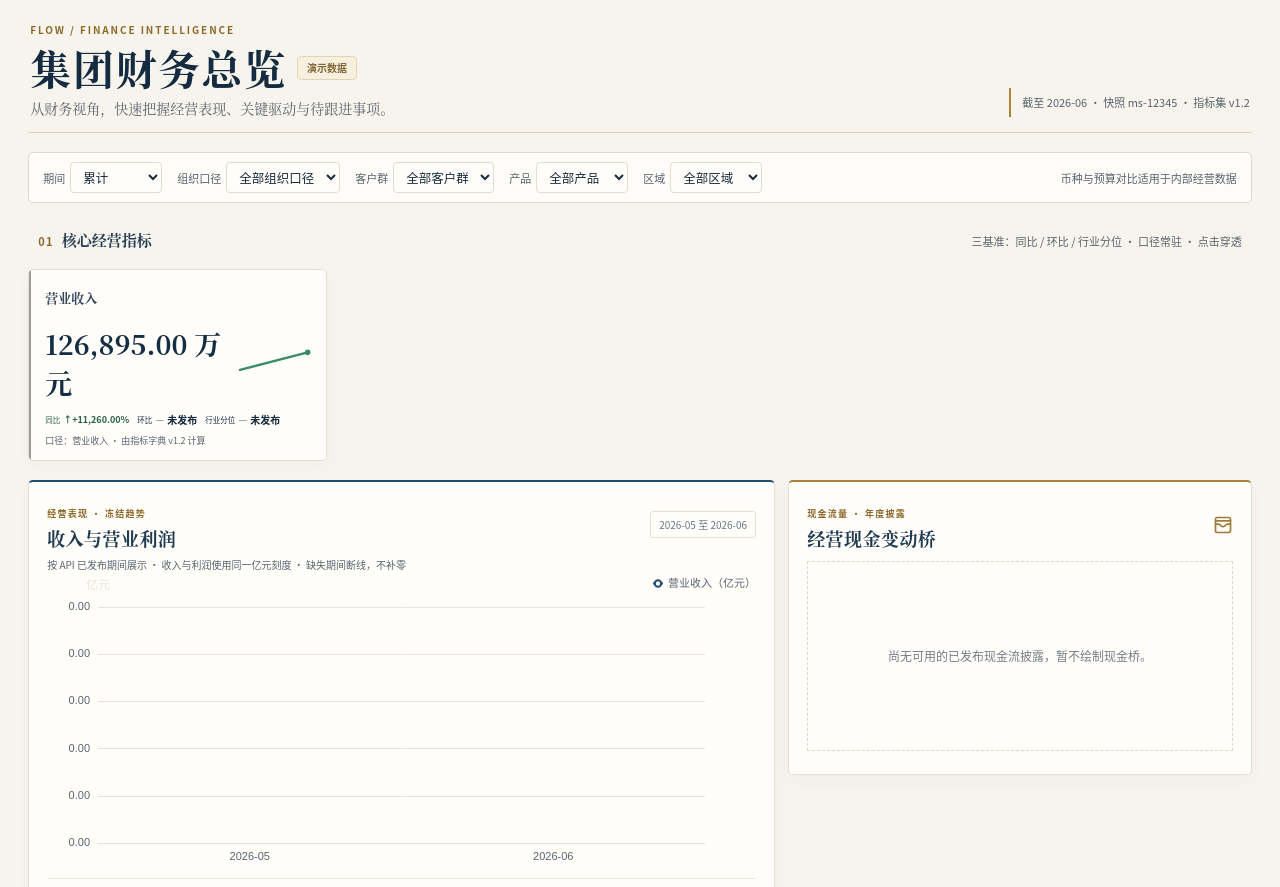
Scenario: CockpitOverviewApp › 点击 KPI 卡打开穿透抽屉并显示快照 ID
The width and height of the screenshot is (1280, 887).
Click the button "营业收入": (177, 365) [29,270,326,460]
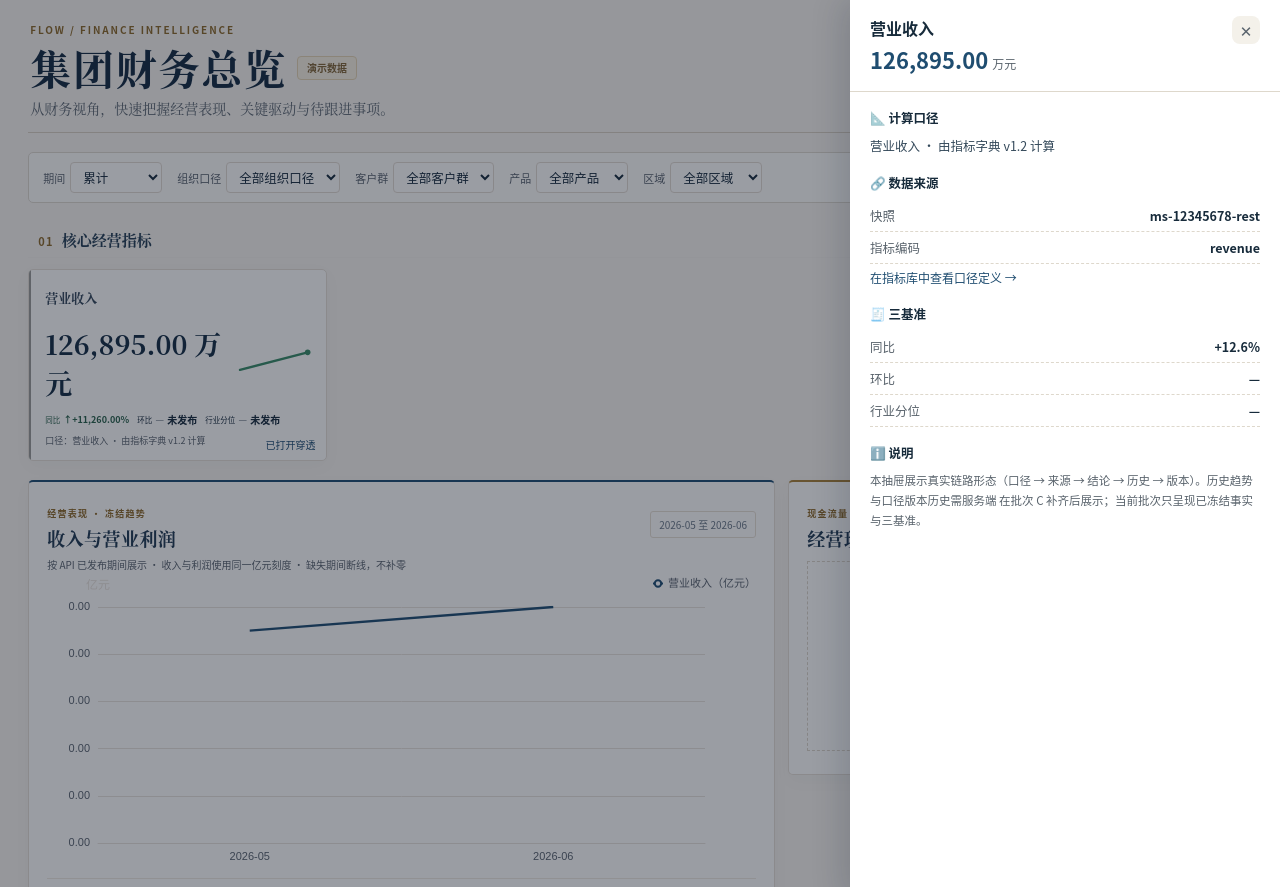
Check: the dialog with test id "cockpit-drill" shows "ms-12345678-rest", box [1150,206,1260,225]
Check: the element with class "drill__value" reads "126,895.00万元", box [870,43,1016,75]
